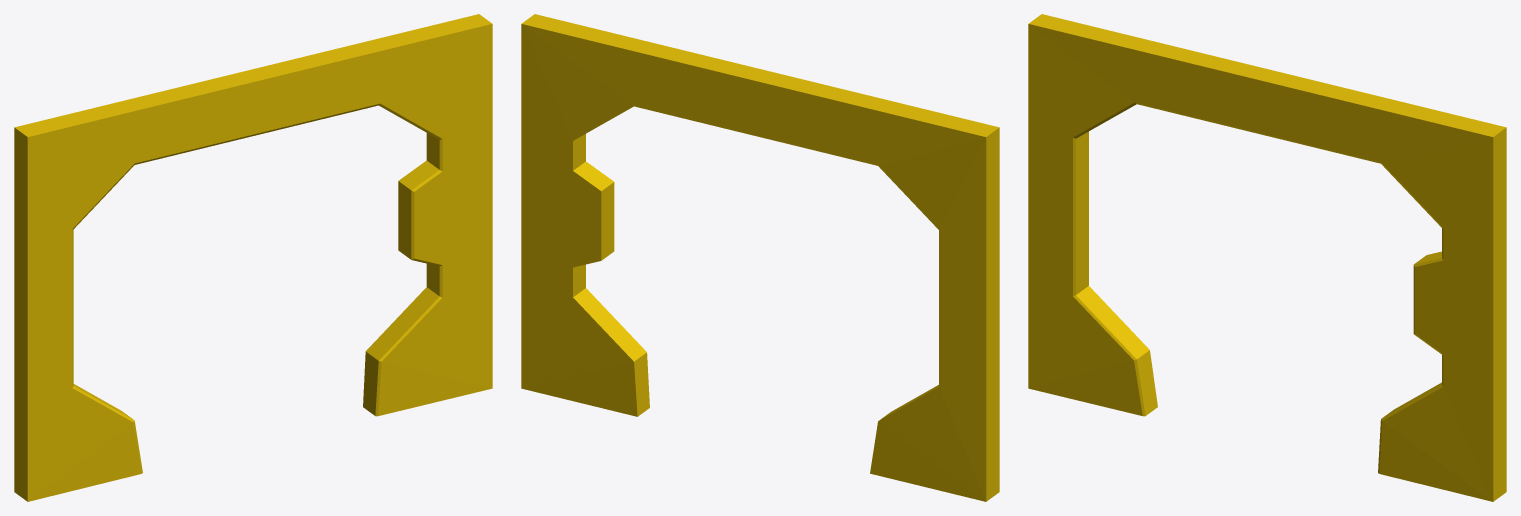
The model's file is doorway.fbx.
The picture shows the model from 3 angles, left to right: view 1: azimuth 30°, elevation 25°; view 2: azimuth 150°, elevation 25°; view 3: azimuth 330°, elevation 25°; orthographic projection.
Parts seen in each view (by area): view 1: doorway; view 2: doorway; view 3: doorway.
Boxes of the visible parts, <box> form: doorway: <box>14,14,492,501</box>; doorway: <box>521,14,999,501</box>; doorway: <box>1028,14,1506,501</box>.
Size of the model in its own units: 400 by 300 by 20.63.
